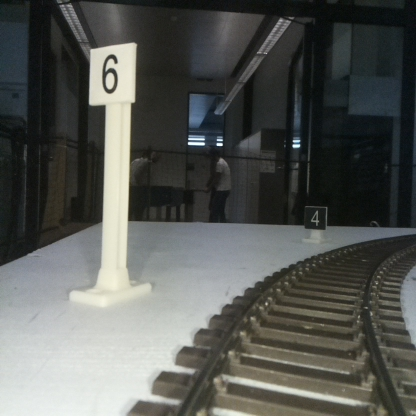black-stop-4: (305, 205, 326, 243)
white-info-6: (89, 42, 135, 301)
